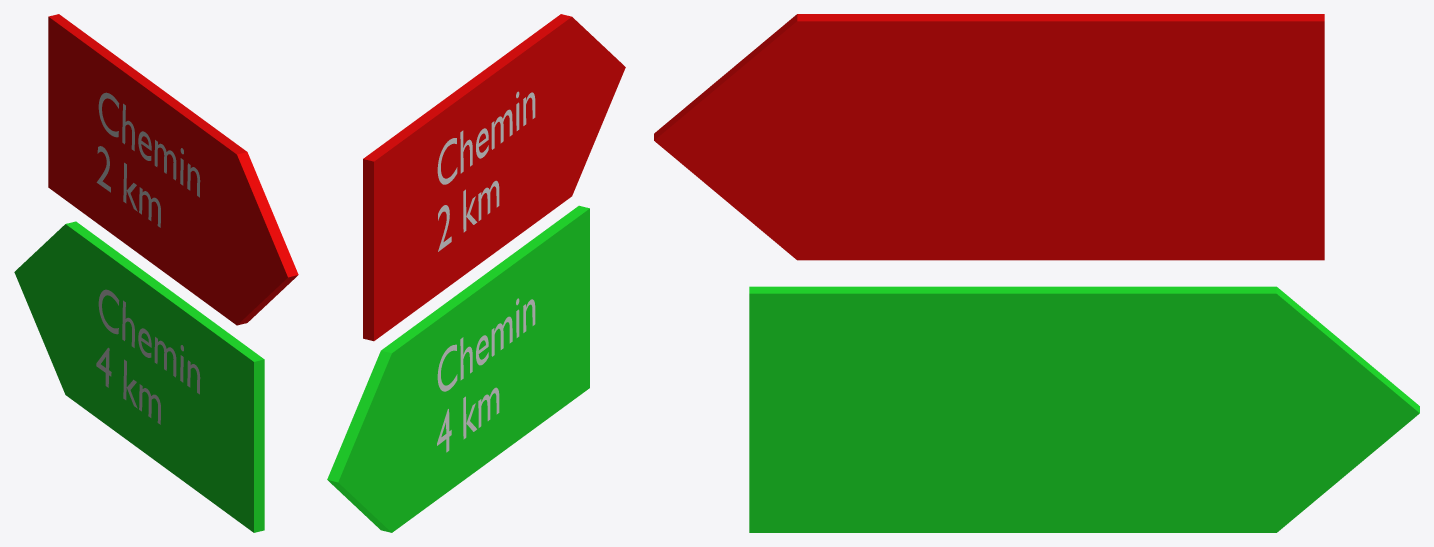
Rendered from panneau.gltf.
3 views of the same model, side by side, from view 1: azimuth 30°, elevation 25°; view 2: azimuth 150°, elevation 25°; view 3: azimuth 270°, elevation 25° (orthographic). The views are drawn at different scales.
Visible parts, largest first — view 1: Text.002; view 2: Text.002; view 3: Text.002.
Part boxes in pixels (x1,y1,x2,y2): Text.002: [14, 14, 298, 532]; Text.002: [327, 14, 625, 532]; Text.002: [654, 14, 1419, 532].
Bounding box in the file's own units: 0.2059 × 4.28 × 5.8.
